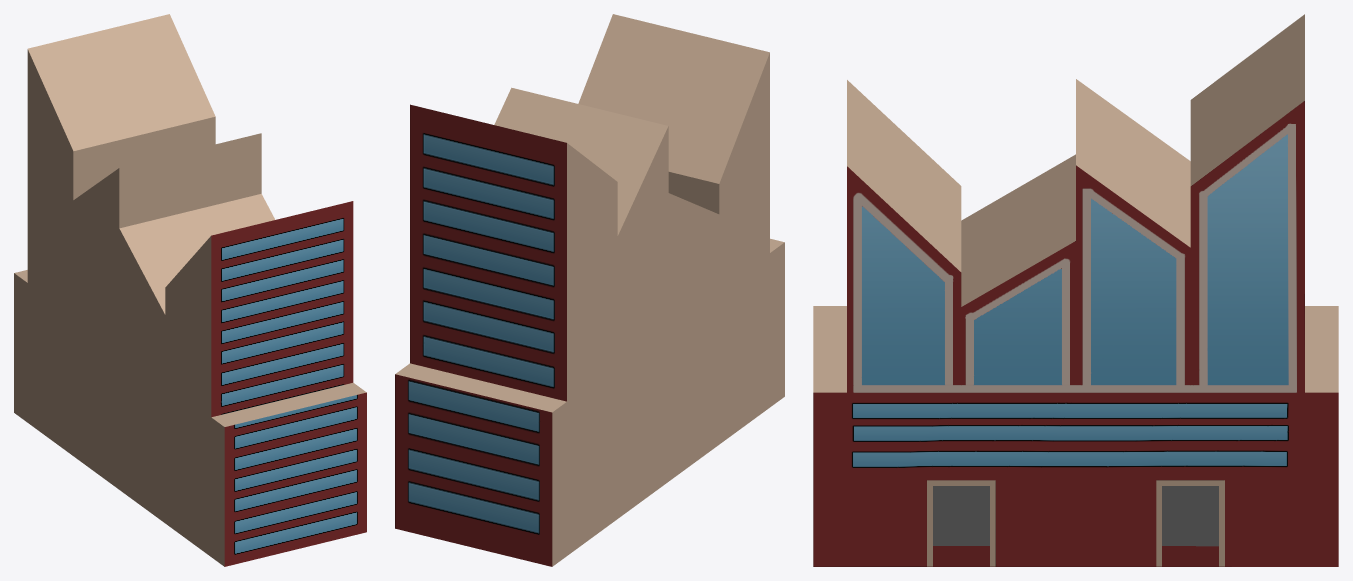
Rendered from Building9.fbx.
The picture shows the model from 3 angles, left to right: view 1: azimuth 30°, elevation 25°; view 2: azimuth 150°, elevation 25°; view 3: azimuth 270°, elevation 25°; orthographic projection. The views are drawn at different scales.
Visible parts, largest first — view 1: Building11; view 2: Building11; view 3: Building11.
Boxes of the visible parts, x1,y1,x2,y2 form: Building11: [14, 14, 366, 566]; Building11: [395, 14, 784, 566]; Building11: [813, 14, 1338, 566].
Size of the model in its own units: 812 by 2040 by 2082.
Materials: 3 (1 with a texture image).
